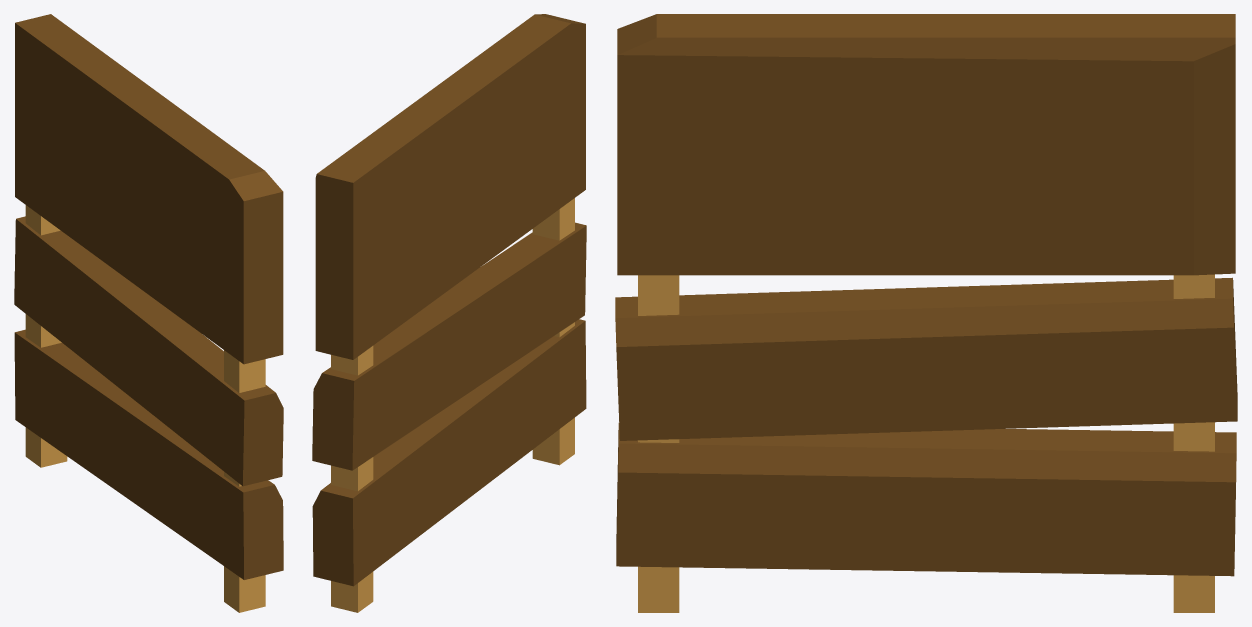
The model's file is BarrierJump.fbx.
3 views of the same model, side by side, from view 1: azimuth 30°, elevation 25°; view 2: azimuth 150°, elevation 25°; view 3: azimuth 270°, elevation 25° (orthographic). The views are drawn at different scales.
Parts seen in each view (by area): view 1: Cube; view 2: Cube; view 3: Cube.
Boxes of the visible parts, bbox=[...] form: Cube: bbox=[14, 14, 283, 612]; Cube: bbox=[312, 14, 586, 612]; Cube: bbox=[615, 14, 1237, 612].
Size of the model in its own units: 0.6 by 6.21 by 6.04.
